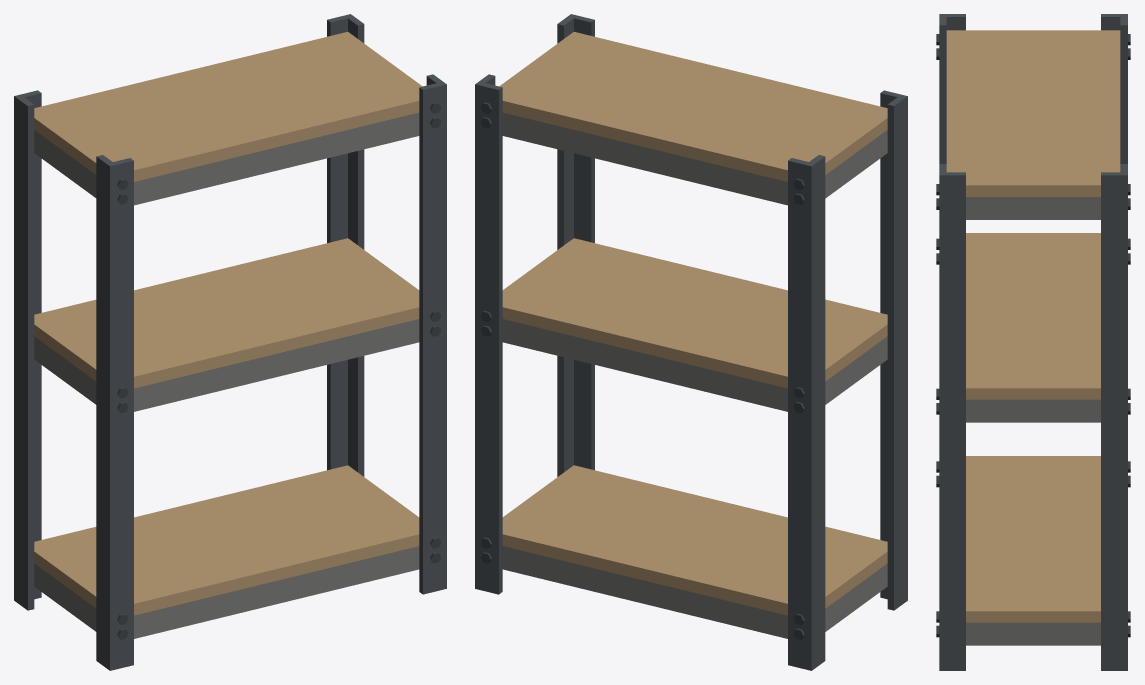
The model's file is SM_Prop_Shelves_Medium_02.fbx.
3 views of the same model, side by side, from view 1: azimuth 30°, elevation 25°; view 2: azimuth 150°, elevation 25°; view 3: azimuth 270°, elevation 25° (orthographic).
Visible parts, largest first — view 1: SM_Prop_Shelves_Medium_02; view 2: SM_Prop_Shelves_Medium_02; view 3: SM_Prop_Shelves_Medium_02.
Boxes of the visible parts, x1,y1,x2,y2 form: SM_Prop_Shelves_Medium_02: (14, 14, 446, 670); SM_Prop_Shelves_Medium_02: (475, 14, 907, 670); SM_Prop_Shelves_Medium_02: (936, 14, 1130, 670).
Bounding box in the file's own units: 125 × 179 × 63.47.
